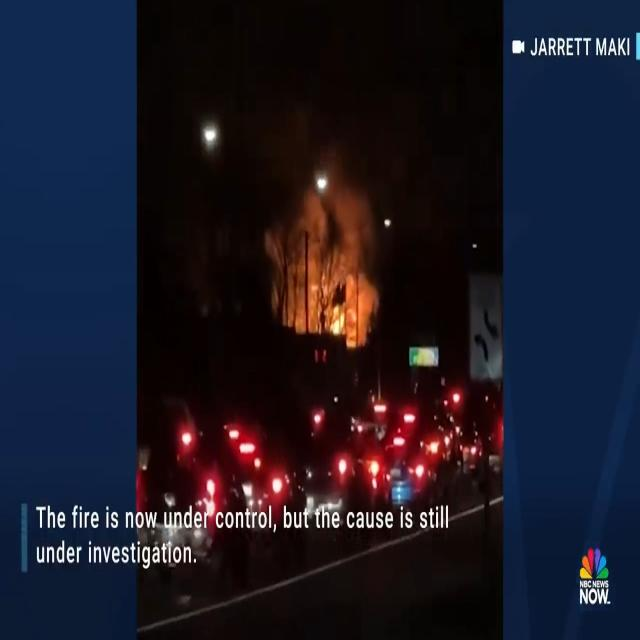fire: (280, 199, 388, 348)
